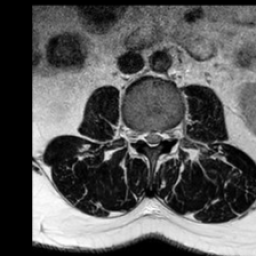CCS_stenosis: (148, 119, 155, 156)
LFS_normal: (163, 116, 171, 147)
LLS_normal: (155, 123, 163, 148)
RFS_normal: (134, 120, 142, 148)
RLS_normal: (140, 121, 148, 149)
